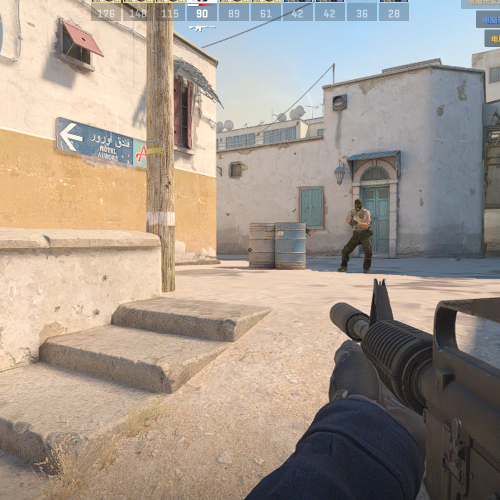t_body: (338, 198, 374, 275)
t_head: (353, 198, 363, 211)
